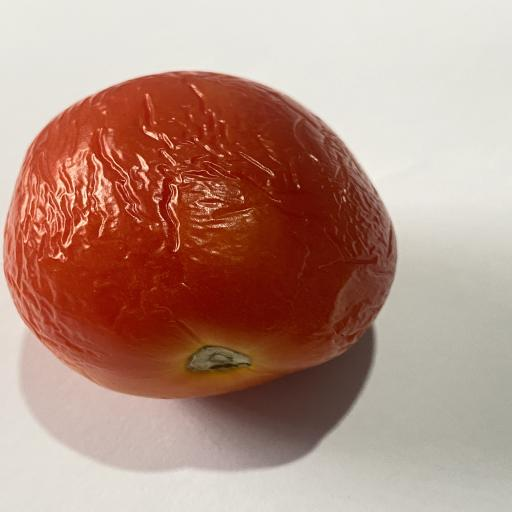spoiled: (4, 72, 397, 398)
